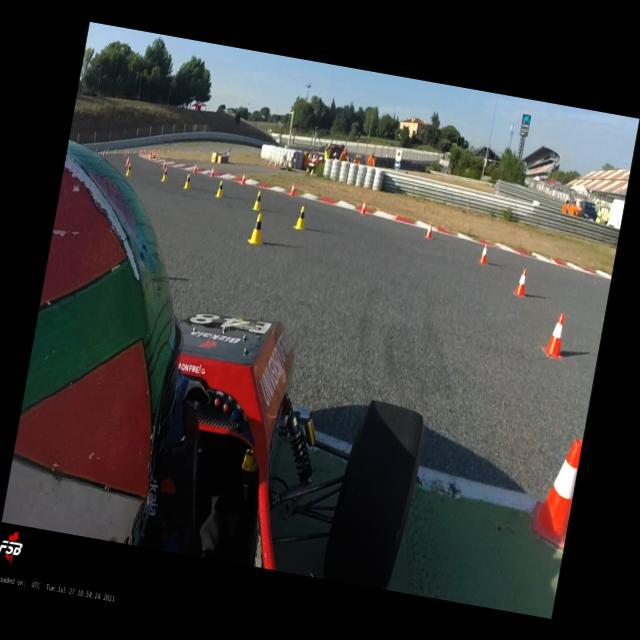orange_cone: (526, 432, 582, 546), (540, 310, 571, 360), (511, 266, 529, 298), (476, 242, 490, 266), (423, 220, 435, 240), (288, 182, 298, 196), (360, 200, 368, 214), (240, 172, 247, 185), (210, 165, 216, 178), (124, 156, 130, 167), (192, 163, 198, 174), (161, 160, 167, 170), (152, 150, 156, 158), (124, 148, 128, 155), (126, 148, 130, 154), (140, 148, 143, 156), (142, 148, 146, 154), (102, 149, 105, 156)
yellow_cone: (246, 210, 267, 246), (292, 203, 308, 230), (252, 189, 264, 211), (214, 178, 226, 198), (182, 172, 192, 190), (160, 168, 170, 182), (125, 162, 133, 176), (148, 152, 152, 159), (105, 148, 109, 154), (113, 148, 116, 154)
